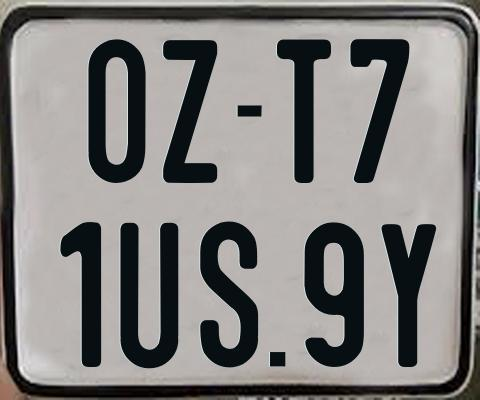0: (87, 37, 151, 185)
1: (57, 221, 101, 367)
7: (348, 36, 412, 184)
9: (302, 220, 363, 366)
S: (198, 218, 257, 365)
T: (275, 37, 331, 184)
U: (120, 222, 184, 371)
Y: (381, 221, 436, 370)
Z: (161, 40, 219, 188)
